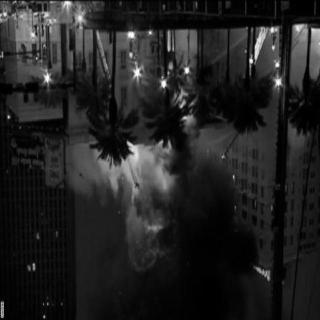Fire: (107, 118, 185, 278)
other: (124, 22, 198, 94), (262, 24, 286, 106), (250, 260, 279, 288), (246, 48, 256, 72)
